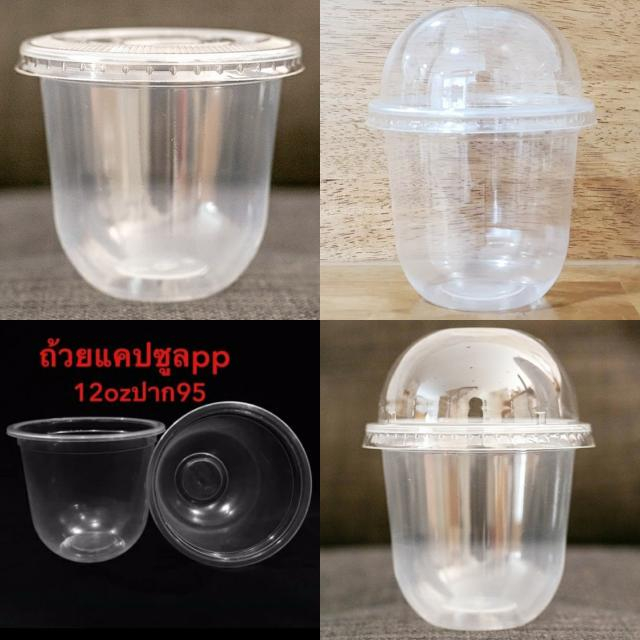Single-Use-Plastic: (16, 28, 304, 301), (364, 328, 594, 630), (368, 8, 595, 311), (148, 401, 311, 567), (6, 416, 165, 562)
